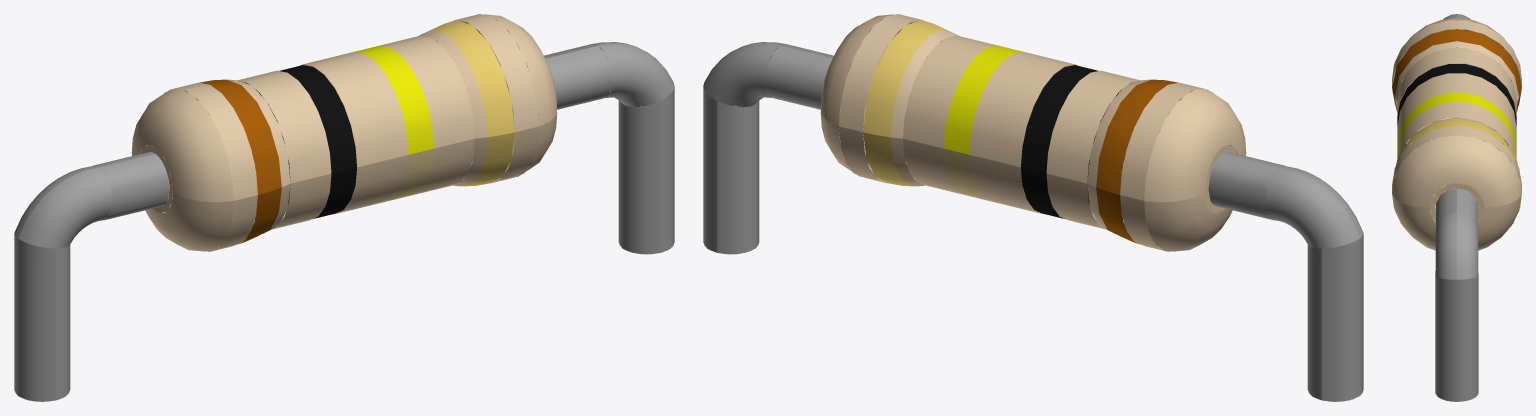
The model's file is 棕黑黃R9.fbx.
3 renders of one model, left to right at view 1: azimuth 30°, elevation 25°; view 2: azimuth 150°, elevation 25°; view 3: azimuth 270°, elevation 25°, orthographic. The views are drawn at different scales.
Parts seen in each view (by area): view 1: nurbsToPoly261; view 2: nurbsToPoly261; view 3: nurbsToPoly261.
Part boxes in pixels (x1,y1,x2,y2): nurbsToPoly261: (14,14,674,401); nurbsToPoly261: (703,14,1363,401); nurbsToPoly261: (1392,14,1521,401).
Size of the model in its own units: 3.19 by 1.21 by 0.7087.
